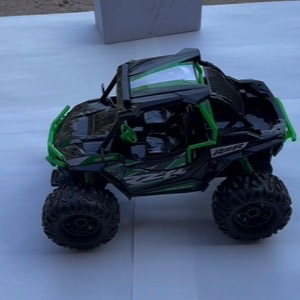polaris: (40, 48, 298, 253)
